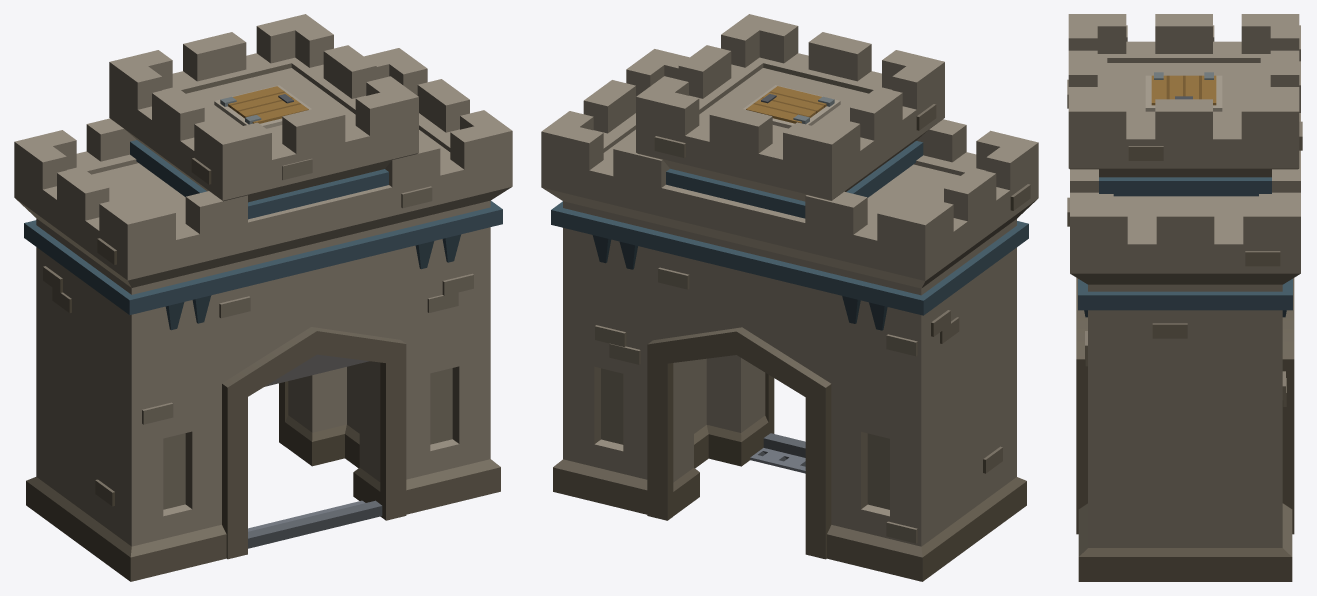
The model's file is SF_Bld_Castle_Gate_03.fbx.
The picture shows the model from 3 angles, left to right: view 1: azimuth 30°, elevation 25°; view 2: azimuth 150°, elevation 25°; view 3: azimuth 270°, elevation 25°; orthographic projection. The views are drawn at different scales.
Visible parts, largest first — view 1: SF_Bld_Castle_Gate_03; view 2: SF_Bld_Castle_Gate_03; view 3: SF_Bld_Castle_Gate_03.
Boxes of the visible parts, left/top/right/bottom form: SF_Bld_Castle_Gate_03: left=14, top=14, right=512, bottom=581; SF_Bld_Castle_Gate_03: left=541, top=14, right=1038, bottom=581; SF_Bld_Castle_Gate_03: left=1067, top=14, right=1302, bottom=581.
Bounding box in the file's own units: 16.31 × 16.75 × 8.36.
